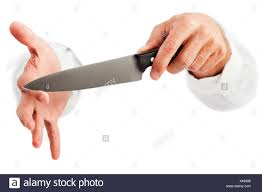knife: (18, 43, 191, 93)
